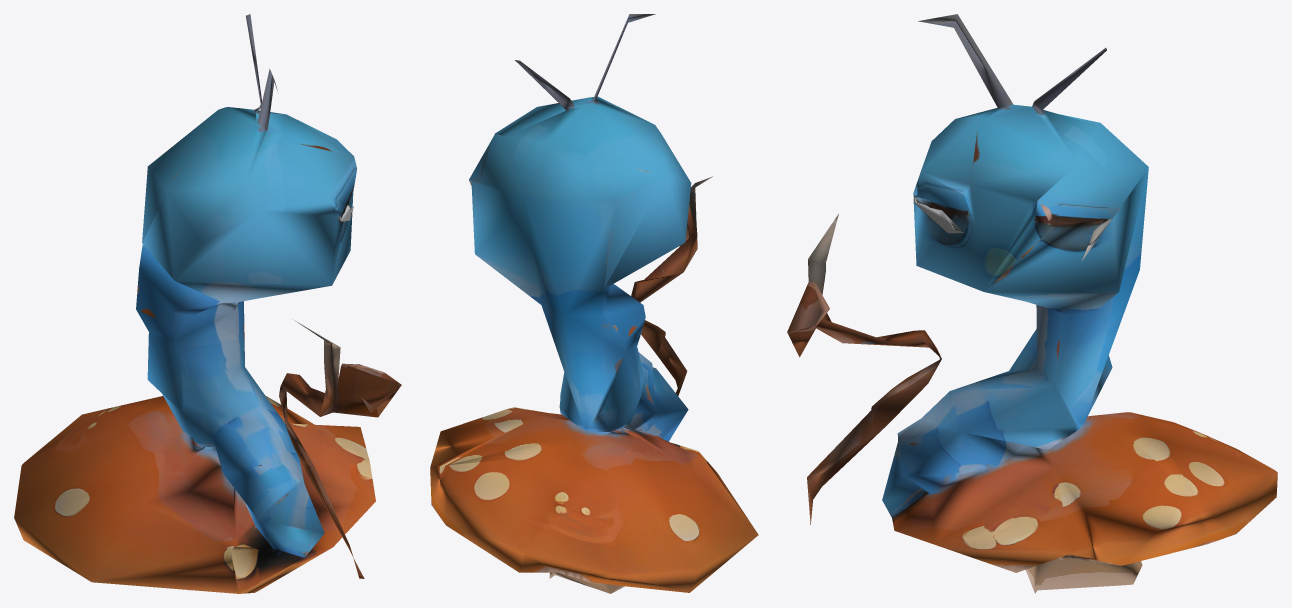
Rendered from caterpillar.glb.
3 views of the same model, side by side, from view 1: azimuth 30°, elevation 25°; view 2: azimuth 150°, elevation 25°; view 3: azimuth 270°, elevation 25° (orthographic). The views are drawn at different scales.
Visible parts, largest first — view 1: tripo_node_63466d07-ed18-4884-91d4-8e84451b469c; view 2: tripo_node_63466d07-ed18-4884-91d4-8e84451b469c; view 3: tripo_node_63466d07-ed18-4884-91d4-8e84451b469c.
Part boxes in pixels (x1,y1,x2,y2): tripo_node_63466d07-ed18-4884-91d4-8e84451b469c: (14,14,401,593); tripo_node_63466d07-ed18-4884-91d4-8e84451b469c: (430,14,758,593); tripo_node_63466d07-ed18-4884-91d4-8e84451b469c: (787,14,1277,593).
Bounding box in the file's own units: 0.6025 × 0.9948 × 0.7766.
Materials: 1 (1 with a texture image).
